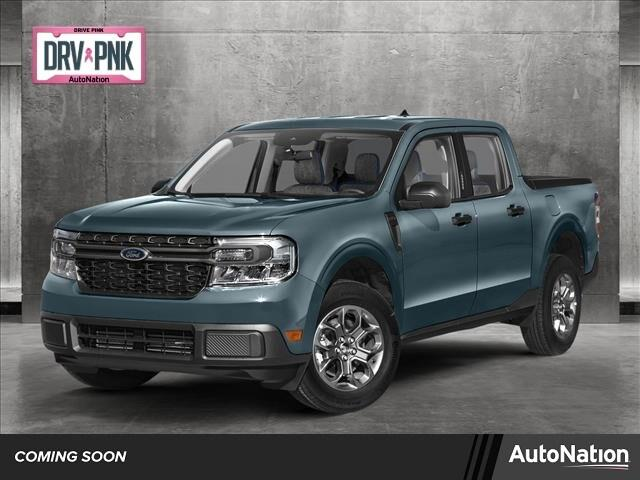ford: (39, 109, 601, 414)
